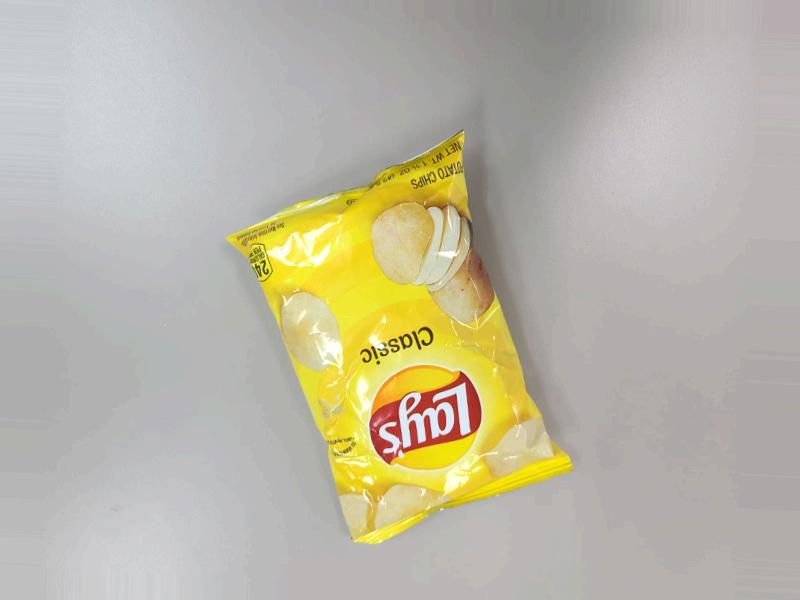lays: (240, 224, 595, 556)
